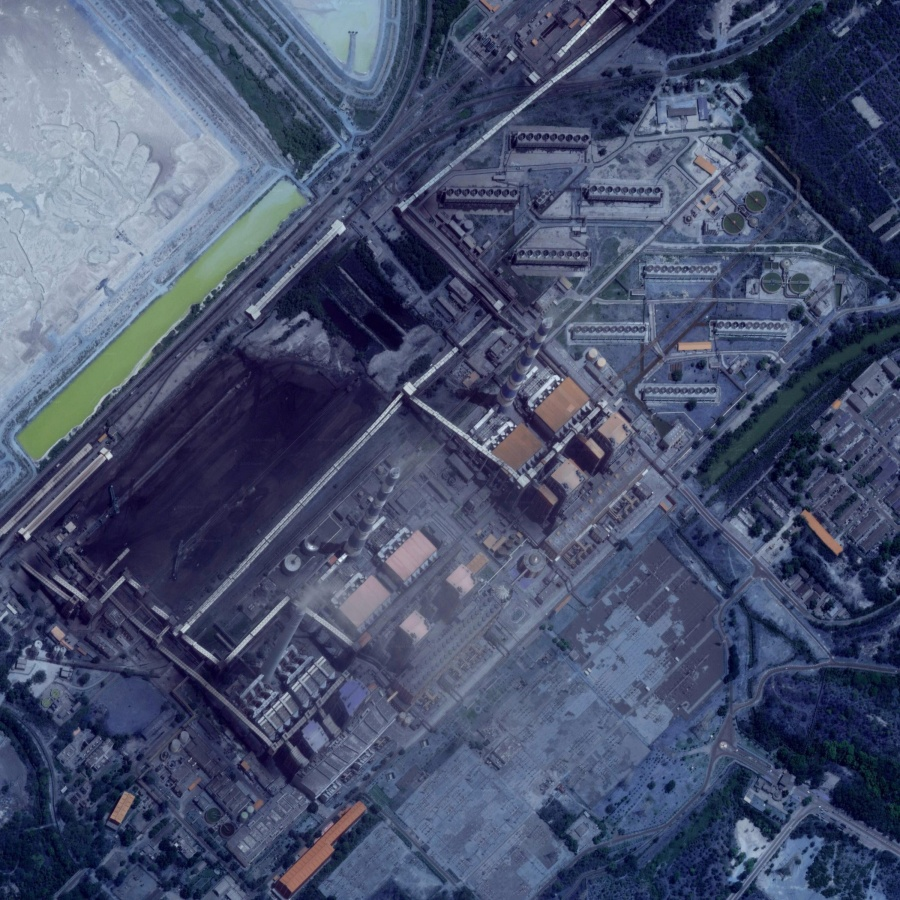PowerPlant: (5, 183, 530, 690)
